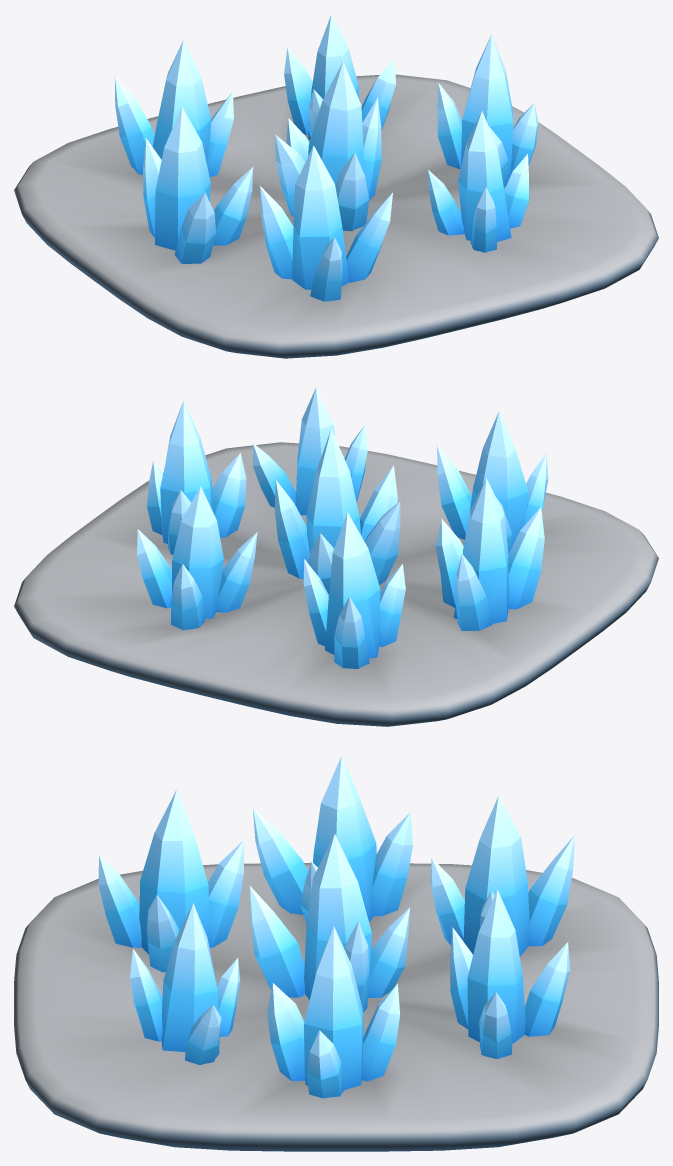
File: spikes_snow.glb
The picture shows the model from 3 angles, top to bottom: view 1: azimuth 30°, elevation 25°; view 2: azimuth 150°, elevation 25°; view 3: azimuth 270°, elevation 25°; orthographic projection. The views are drawn at different scales.
Visible parts, largest first — view 1: spikes_snow; view 2: spikes_snow; view 3: spikes_snow.
Boxes of the visible parts, x1,y1,x2,y2 form: spikes_snow: (14,14,658,358); spikes_snow: (14,387,658,726); spikes_snow: (14,756,658,1151).
Size of the model in its own units: 2 by 0.6795 by 2.
